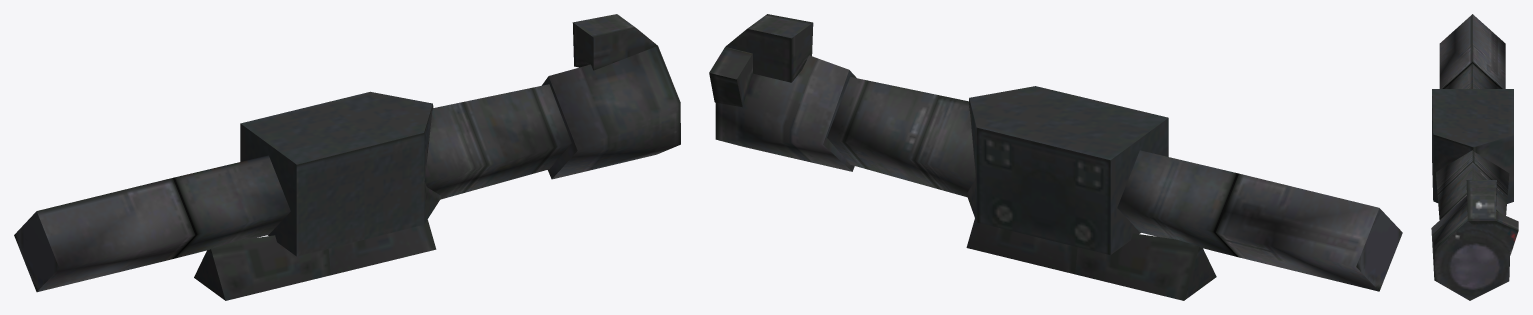
The model's file is Pickup_WeaponMzj07.glb.
3 views of the same model, side by side, from view 1: azimuth 30°, elevation 25°; view 2: azimuth 150°, elevation 25°; view 3: azimuth 270°, elevation 25° (orthographic). The views are drawn at different scales.
Parts seen in each view (by area): view 1: pk_weapon_mzj07; view 2: pk_weapon_mzj07; view 3: pk_weapon_mzj07.
Part boxes in pixels (x1,y1,x2,y2): pk_weapon_mzj07: (14,14,680,300); pk_weapon_mzj07: (709,14,1402,300); pk_weapon_mzj07: (1431,14,1518,300).
Bounding box in the file's own units: 0.796 × 0.1997 × 0.1338.
Materials: 1 (1 with a texture image).
